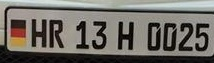character: (91, 20, 107, 49), (117, 21, 133, 50), (31, 18, 46, 48), (75, 20, 90, 50), (178, 21, 193, 51), (49, 19, 63, 49), (163, 22, 177, 52), (194, 22, 208, 52), (147, 22, 160, 51)
